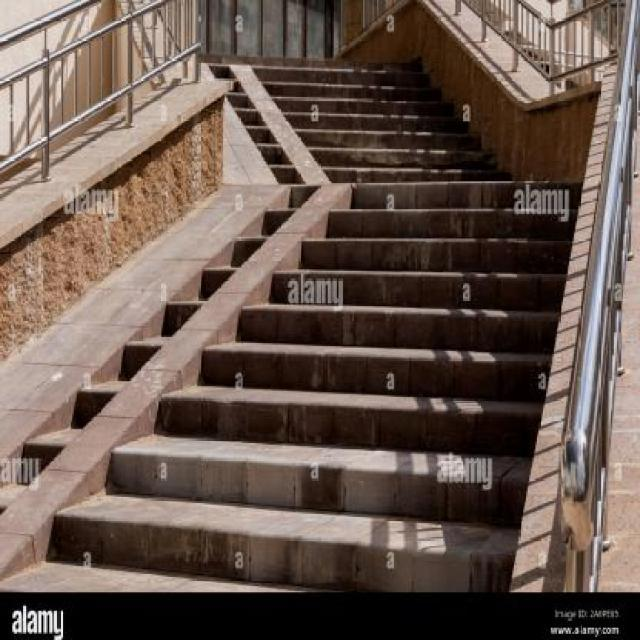stair: (0, 0, 618, 591)
